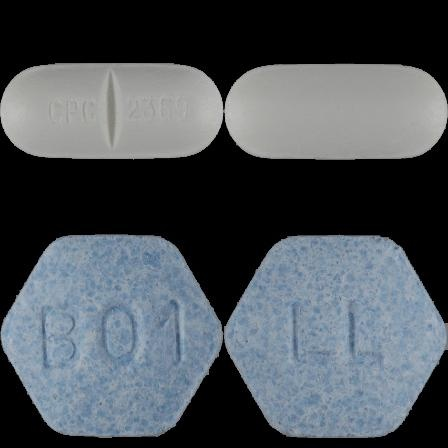68084-764: (0, 0, 224, 224)
